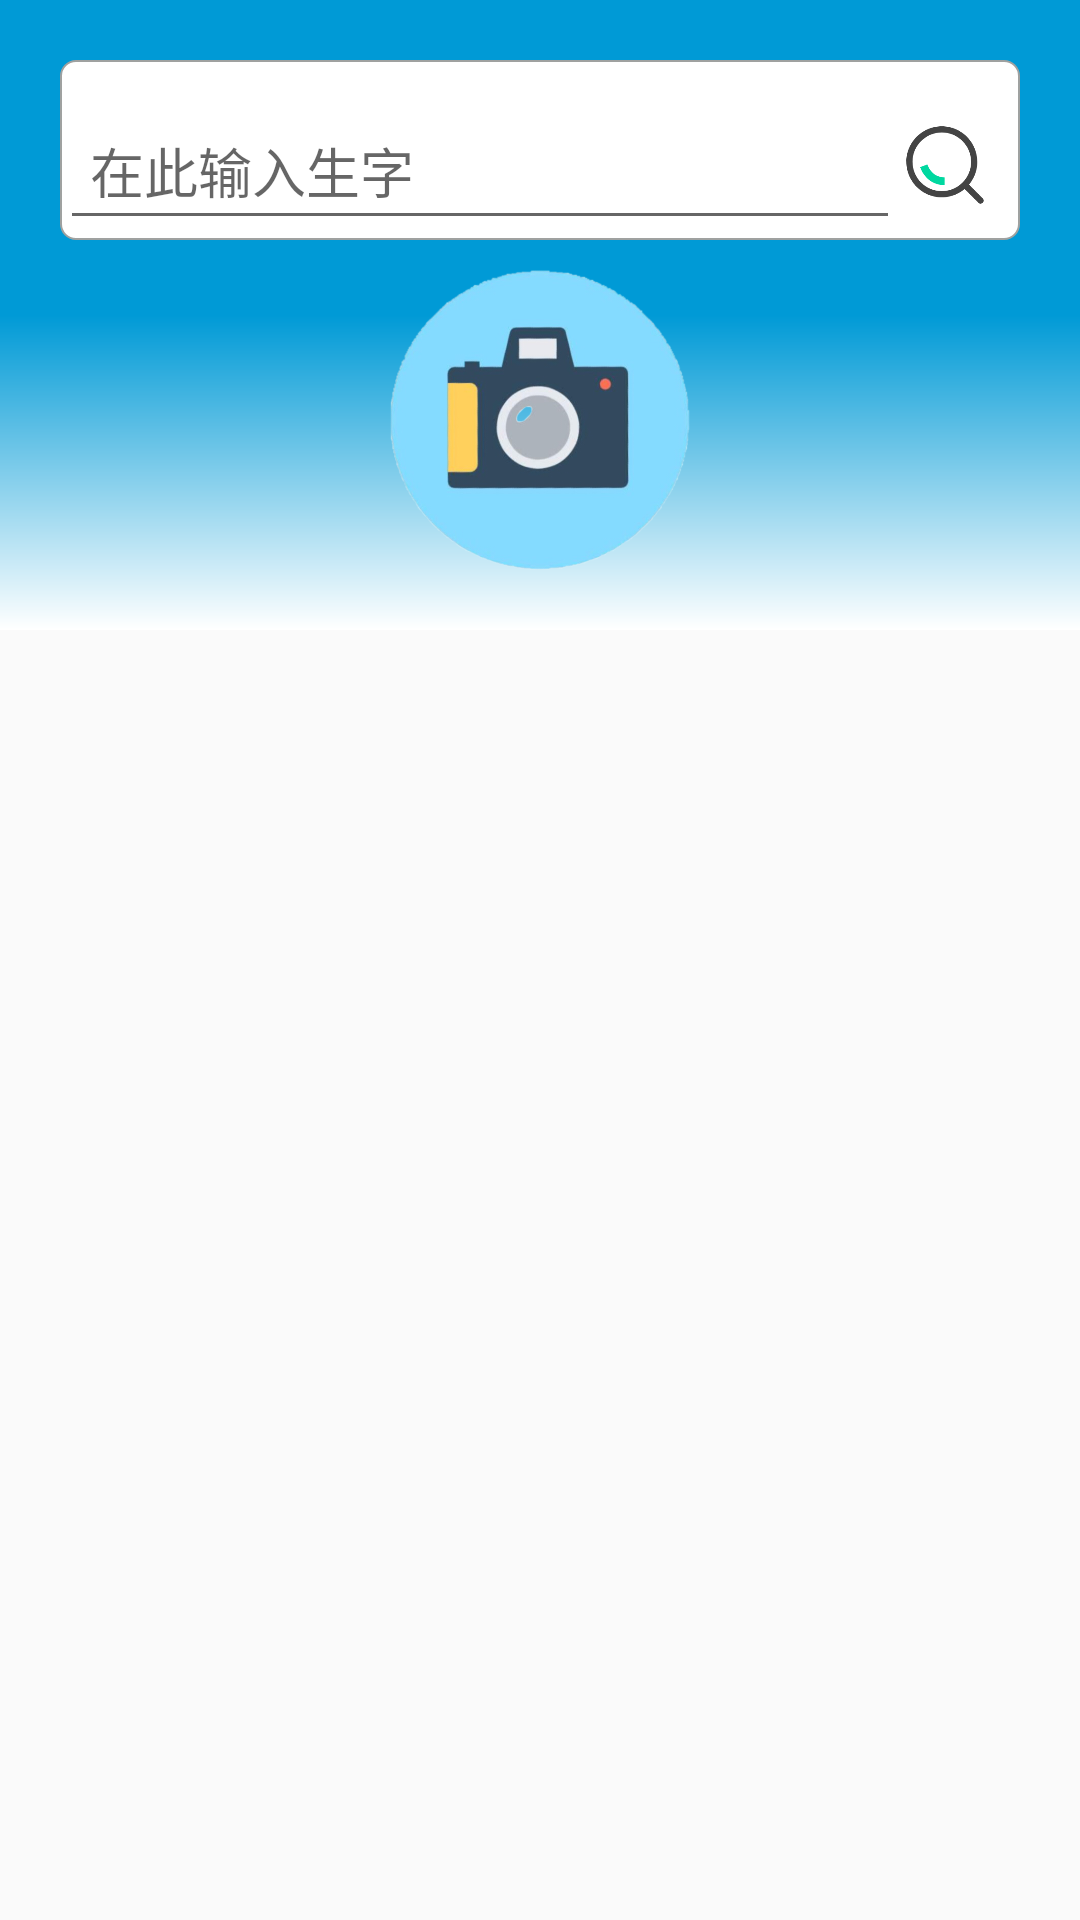

Icon click points for this 1080*1920 phone screenshot, format (x=x, y=y):
find: (x=945, y=165)
phtot: (x=540, y=420)
